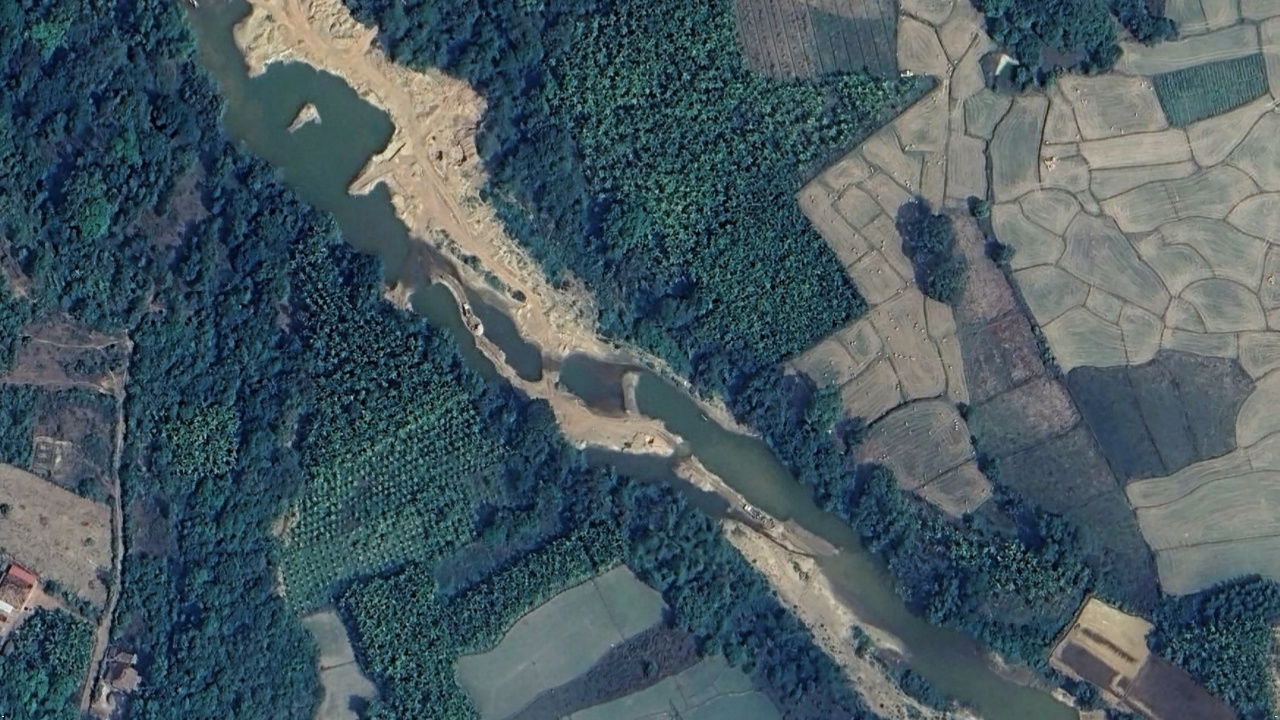arecanut: (545, 1, 844, 344), (566, 26, 840, 323), (305, 299, 486, 720)
